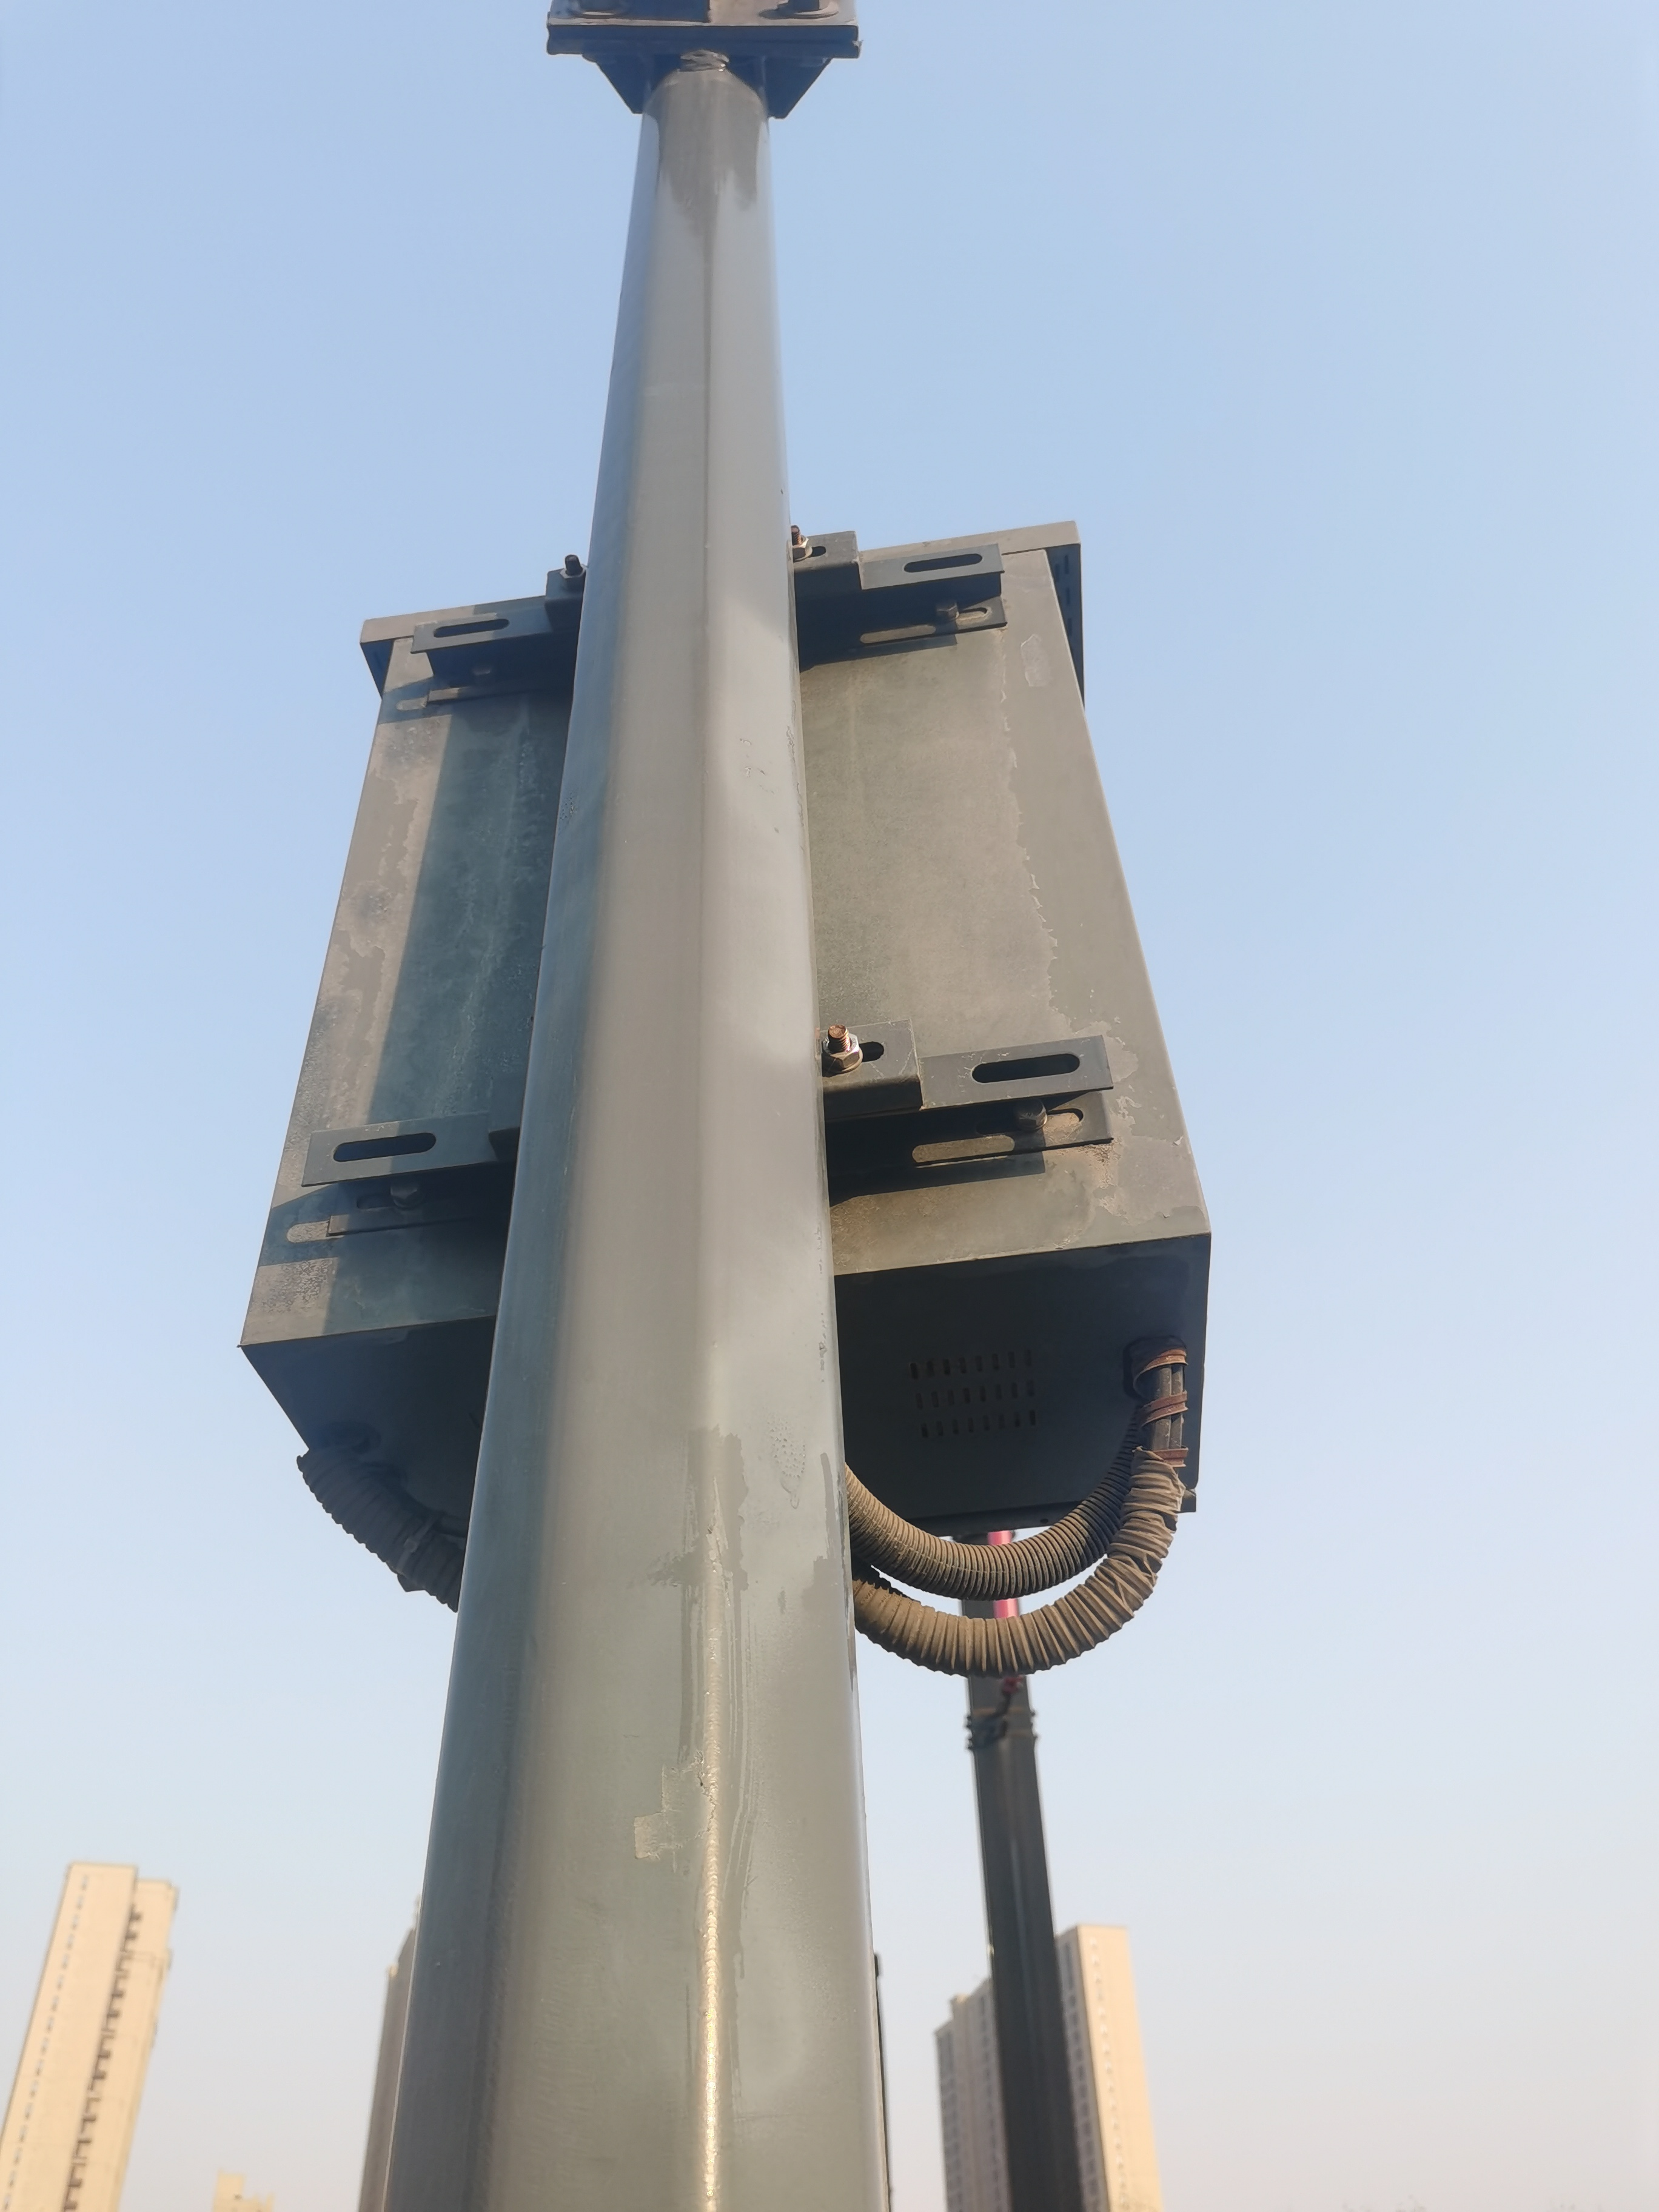bolt_b: (816, 1021, 866, 1075), (556, 561, 594, 594), (784, 528, 814, 563)
